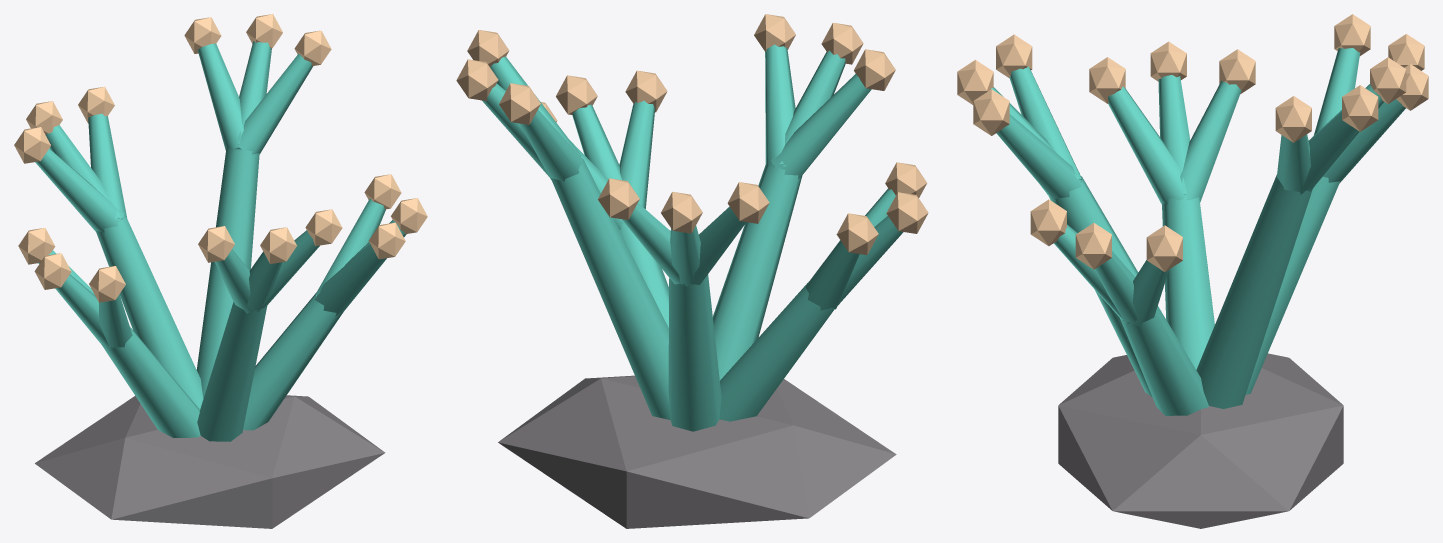
The model's file is ocean-scenery-3.glb.
The picture shows the model from 3 angles, left to right: view 1: azimuth 30°, elevation 25°; view 2: azimuth 150°, elevation 25°; view 3: azimuth 270°, elevation 25°; orthographic projection. The views are drawn at different scales.
Visible parts, largest first — view 1: Branching ocean coral; view 2: Branching ocean coral; view 3: Branching ocean coral.
Boxes of the visible parts, x1=… form: Branching ocean coral: x1=14, y1=14, x2=427, y2=528; Branching ocean coral: x1=456, y1=14, x2=928, y2=528; Branching ocean coral: x1=957, y1=14, x2=1428, y2=528.
Bounding box in the file's own units: 1.54 × 1.67 × 1.54.
